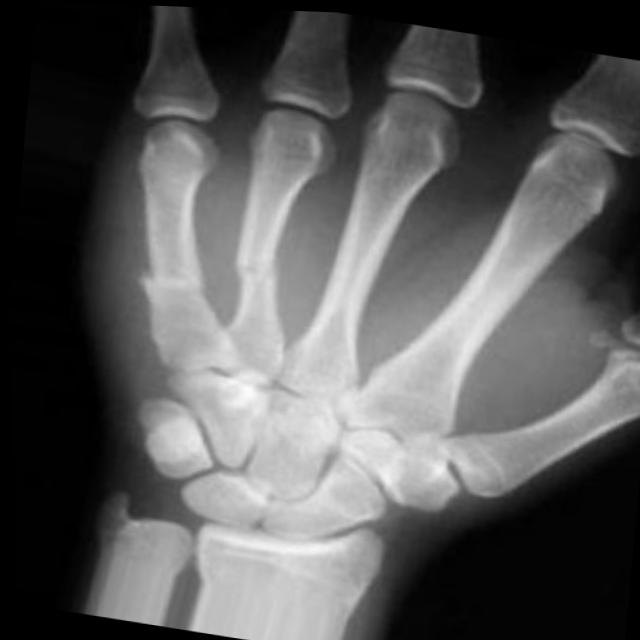fracture: (126, 244, 223, 300), (220, 246, 287, 295)
